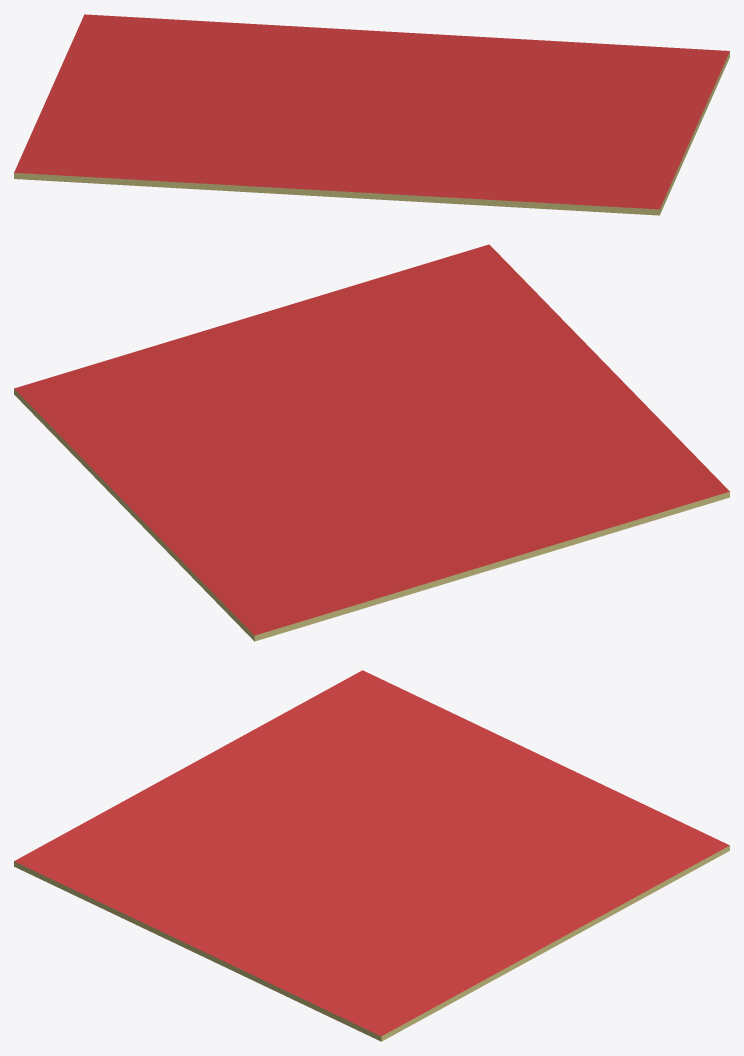
The picture shows the model from 3 angles, top to bottom: view 1: azimuth 30°, elevation 25°; view 2: azimuth 150°, elevation 25°; view 3: azimuth 270°, elevation 25°; orthographic projection. The views are drawn at different scales.
Bounding box in the file's own units: 12.41 × 12.08 × 1.13.
